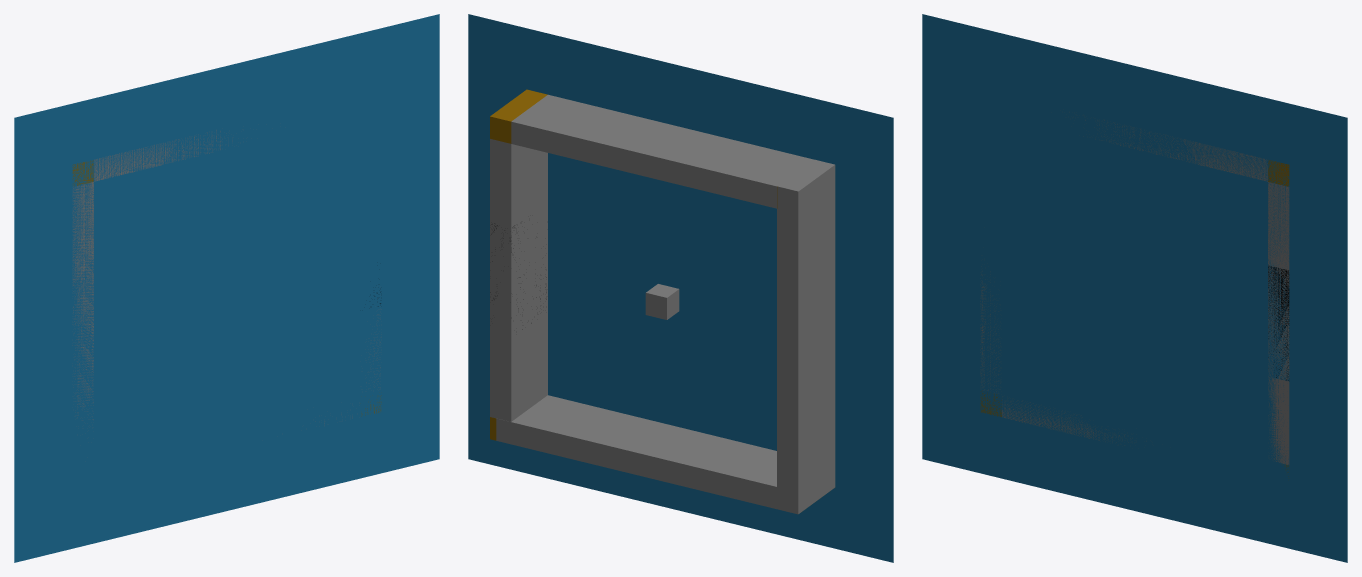
The model's file is Lore Room East.fbx.
3 views of the same model, side by side, from view 1: azimuth 30°, elevation 25°; view 2: azimuth 150°, elevation 25°; view 3: azimuth 330°, elevation 25° (orthographic).
Parts seen in each view (by area): view 1: BG, RightWall, TopWall; view 2: BG, Cube__1_, Cube, TopWall, LeftWall, LeftHalfWallT, CornerTL, Lore_Room_East, LeftHalfWallB; view 3: BG, LeftWall, TopWall, LeftHalfWallB, DoorL, LeftHalfWallT, BottomWall.
Part boxes in pixels (<box>): BG: <box>14,14,439,562</box>; RightWall: <box>72,182,93,420</box>; TopWall: <box>94,130,232,181</box>; BG: <box>468,14,893,562</box>; Cube__1_: <box>777,159,835,514</box>; Cube: <box>496,395,797,514</box>; TopWall: <box>511,94,813,208</box>; LeftWall: <box>490,147,547,421</box>; LeftHalfWallT: <box>490,139,547,226</box>; CornerTL: <box>490,89,547,143</box>; Lore_Room_East: <box>645,284,679,319</box>; LeftHalfWallB: <box>490,314,547,421</box>; BG: <box>922,14,1347,562</box>; LeftWall: <box>1268,182,1289,464</box>; TopWall: <box>1069,112,1267,181</box>; LeftHalfWallB: <box>1268,377,1289,464</box>; DoorL: <box>1268,265,1289,380</box>; LeftHalfWallT: <box>1268,182,1289,270</box>; BottomWall: <box>1002,396,1146,445</box>.
Size of what is drawn, in the model's own units: 2000 by 2000 by 301.
